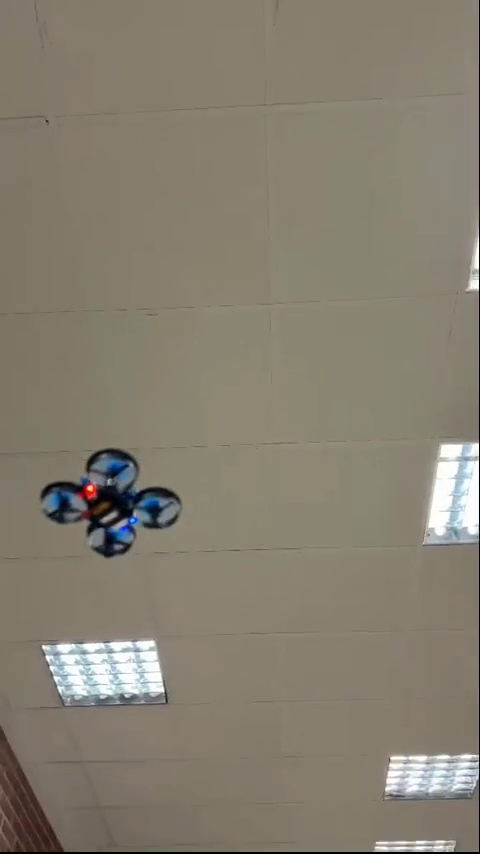drone: (36, 448, 182, 556)
